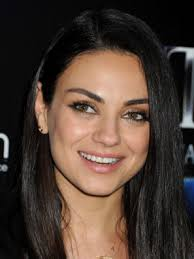middle_eastern_Female: (41, 36, 150, 186)
